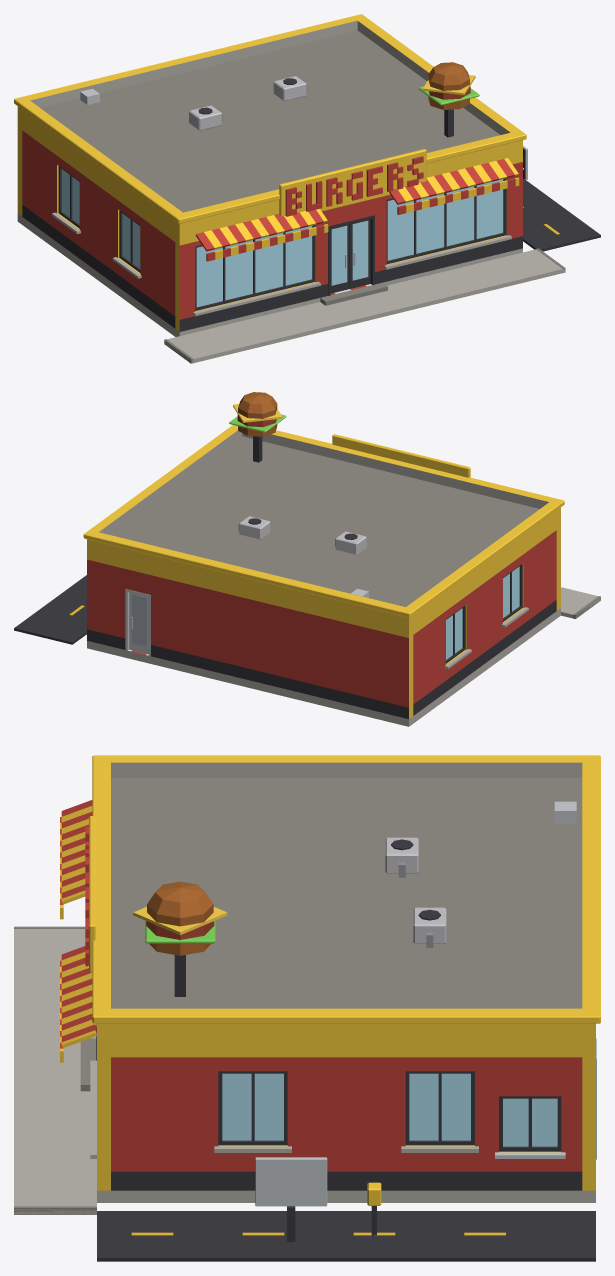
File: BurgerRestaurant.fbx
3 views of the same model, one above another, from view 1: azimuth 30°, elevation 25°; view 2: azimuth 150°, elevation 25°; view 3: azimuth 270°, elevation 25° (orthographic). The views are drawn at different scales.
Parts seen in each view (by area): view 1: BurgerRestaurant, BurgerRestaurant_Roof, BurgerRestaurant_Glass, BurgerRestaurant_Sign, BurgerRestaurant_DoorR, BurgerRestaurant_DoorL; view 2: BurgerRestaurant, BurgerRestaurant_Roof, BurgerRestaurant_Sign, BurgerRestaurant_Glass, BurgerRestaurant_BackDoor; view 3: BurgerRestaurant, BurgerRestaurant_Roof, BurgerRestaurant_Glass, BurgerRestaurant_Sign.
Part boxes in pixels (x1,y1,x2,y2): BurgerRestaurant: (14, 14, 600, 363); BurgerRestaurant_Roof: (40, 30, 500, 212); BurgerRestaurant_Glass: (61, 169, 503, 307); BurgerRestaurant_Sign: (279, 149, 426, 216); BurgerRestaurant_DoorR: (349, 219, 370, 288); BurgerRestaurant_DoorL: (330, 224, 349, 293); BurgerRestaurant: (14, 425, 600, 726); BurgerRestaurant_Roof: (108, 392, 539, 606); BurgerRestaurant_Sign: (332, 434, 470, 477); BurgerRestaurant_Glass: (446, 566, 519, 659); BurgerRestaurant_BackDoor: (129, 592, 148, 654); BurgerRestaurant: (14, 755, 600, 1261); BurgerRestaurant_Roof: (111, 778, 582, 1008); BurgerRestaurant_Glass: (222, 1073, 557, 1146); BurgerRestaurant_Sign: (85, 816, 95, 972).
Size of the model in its own units: 56 by 22.32 by 42.35.
1 material, 1 textured.
